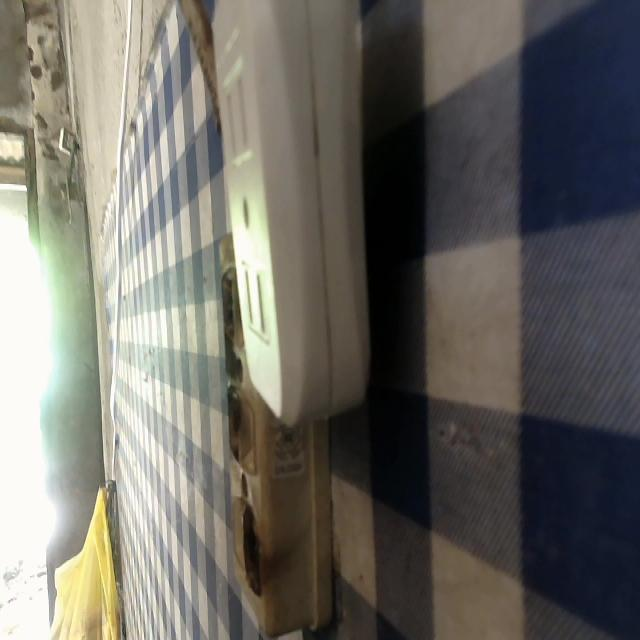-: (214, 268, 247, 351), (241, 503, 262, 588), (223, 386, 246, 462)
